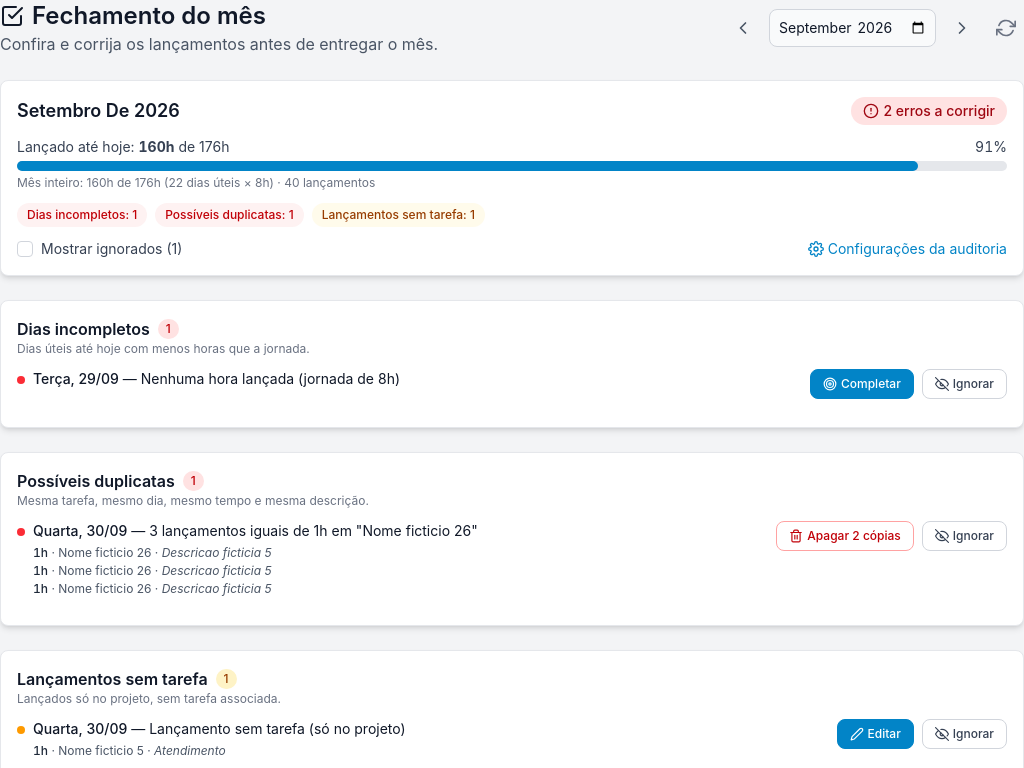
Scenario: Fechamento › apaga só as cópias excedentes da duplicata, após confirmar
Click the button "Apagar 2 cópias". click: x=845, y=536
box: x1=776 y1=521 x2=914 y2=551
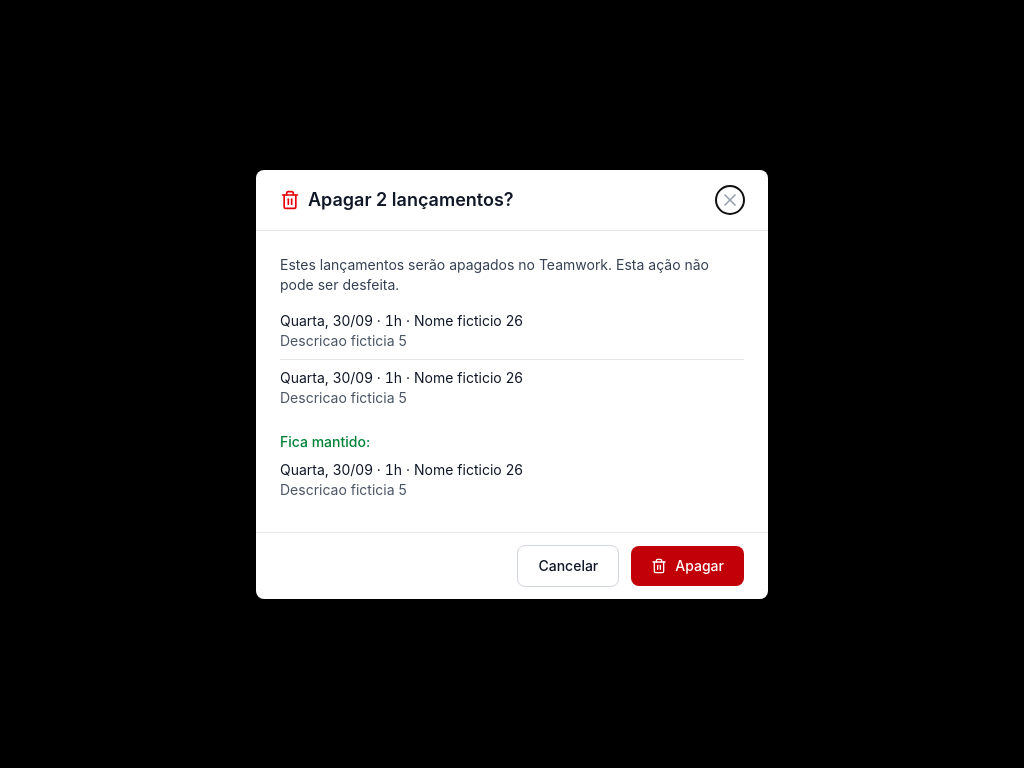
Now the list named "Lançamento mantido" is shown, box x1=280 y1=460 x2=523 y2=498
Click the button "Apagar". click: x=688, y=566
box: x1=631 y1=546 x2=744 y2=586
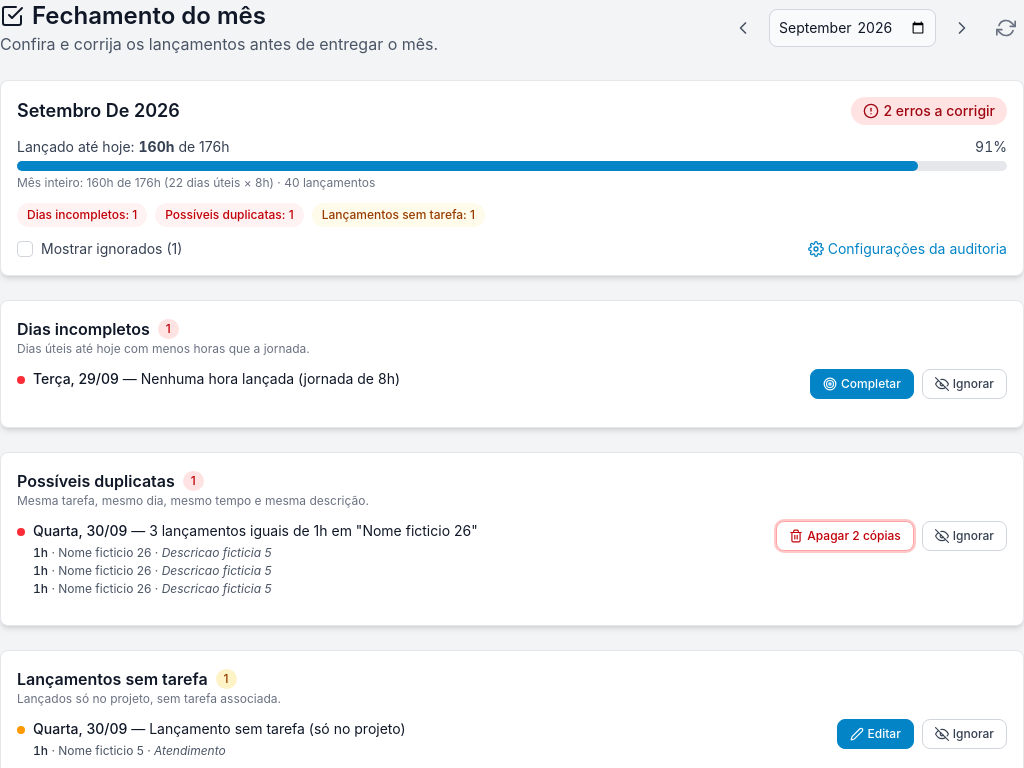
Now the dialog is gone
